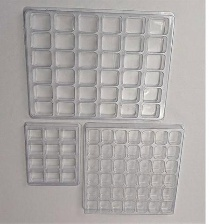plastic_box: (15, 1, 181, 125), (73, 118, 190, 221), (17, 118, 85, 191)
